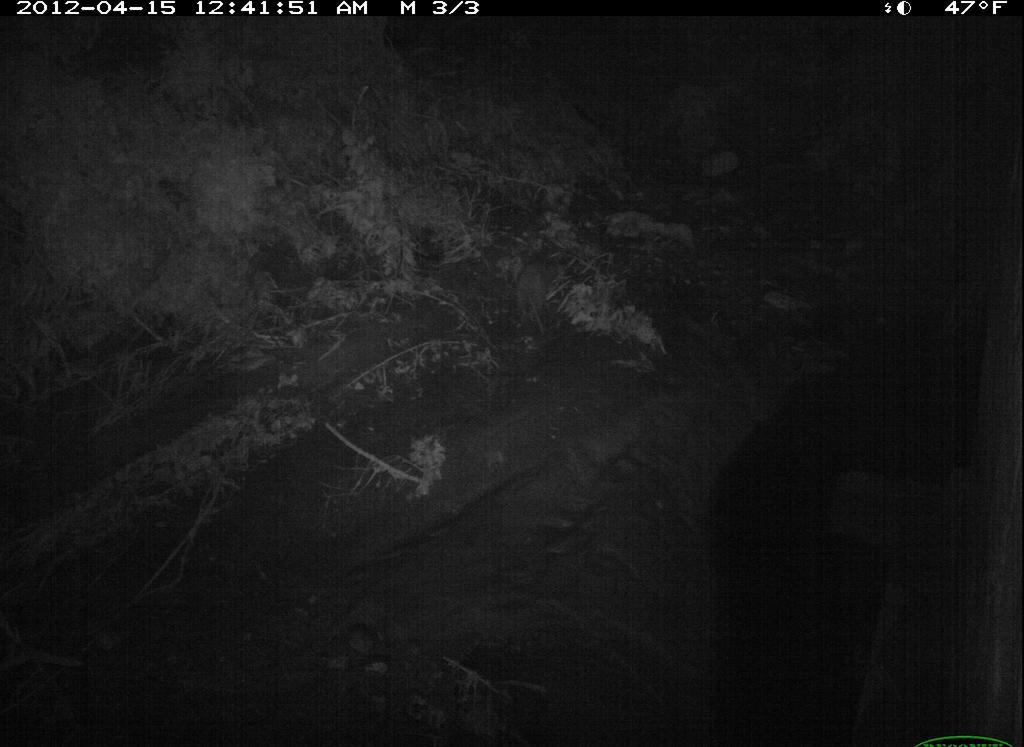opossum: (515, 257, 555, 331)
